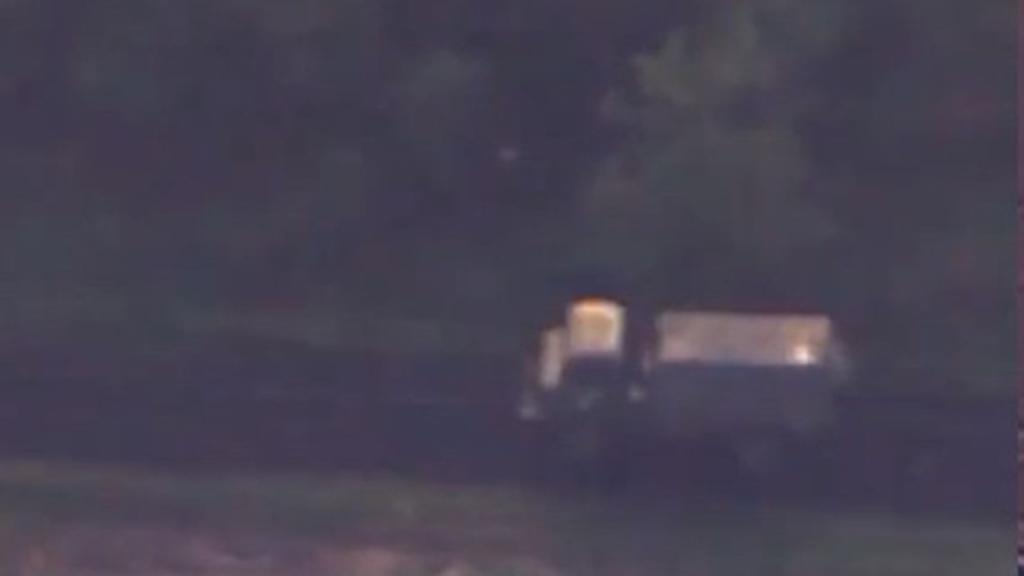TRUCK: (502, 282, 844, 458)
